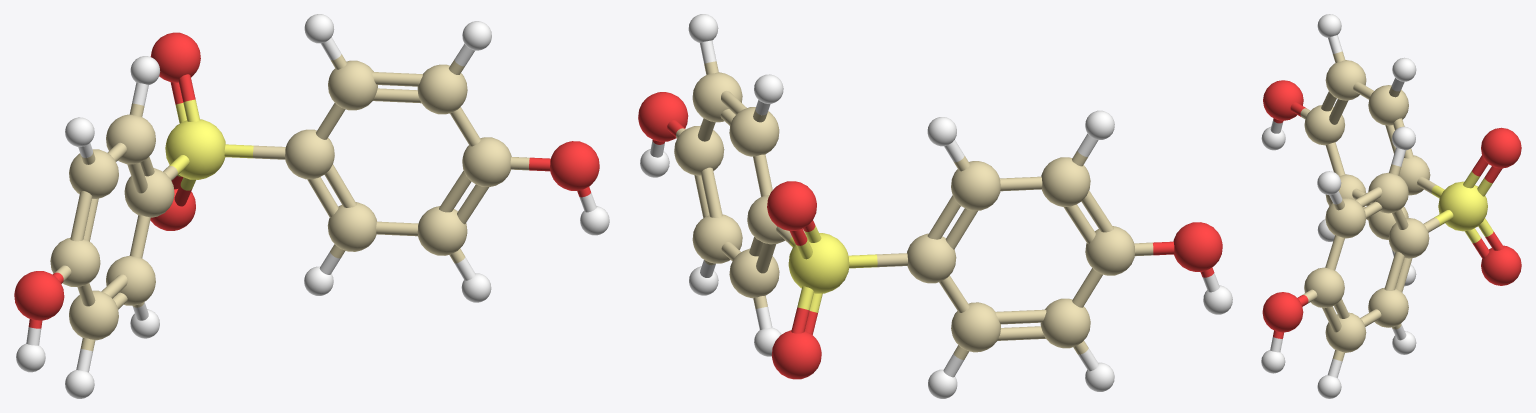
Rendered from BisphenolS.glb.
3 views of the same model, side by side, from view 1: azimuth 30°, elevation 25°; view 2: azimuth 150°, elevation 25°; view 3: azimuth 270°, elevation 25° (orthographic). The views are drawn at different scales.
Parts seen in each view (by area): view 1: atoms, sticks, hydrogen; view 2: atoms, sticks, hydrogen; view 3: atoms, sticks, hydrogen.
Part boxes in pixels (x1,y1,x2,y2): atoms: [14, 32, 599, 340]; sticks: [26, 37, 596, 372]; hydrogen: [16, 14, 609, 398]; atoms: [638, 72, 1222, 379]; sticks: [650, 40, 1219, 377]; hydrogen: [640, 14, 1232, 398]; atoms: [1262, 60, 1521, 352]; sticks: [1270, 35, 1504, 377]; hydrogen: [1261, 14, 1416, 398].
Bounding box in the file's own units: 10.54 × 4.78 × 4.99.
